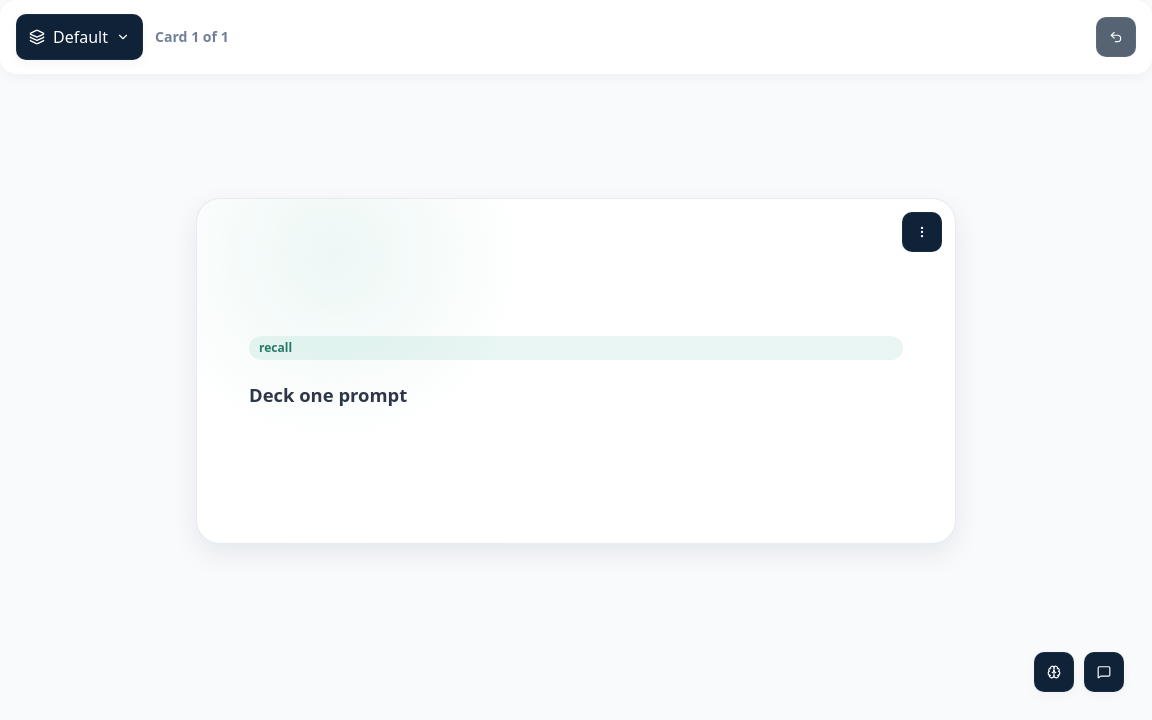
Test case: ReviewPage › ignores a stale scheduled grade response after switching selections
Expected: the text "Deck one prompt" is shown, [249, 382, 407, 407]
Click the element named "flashcard" at (242, 371), box [196, 198, 956, 544]
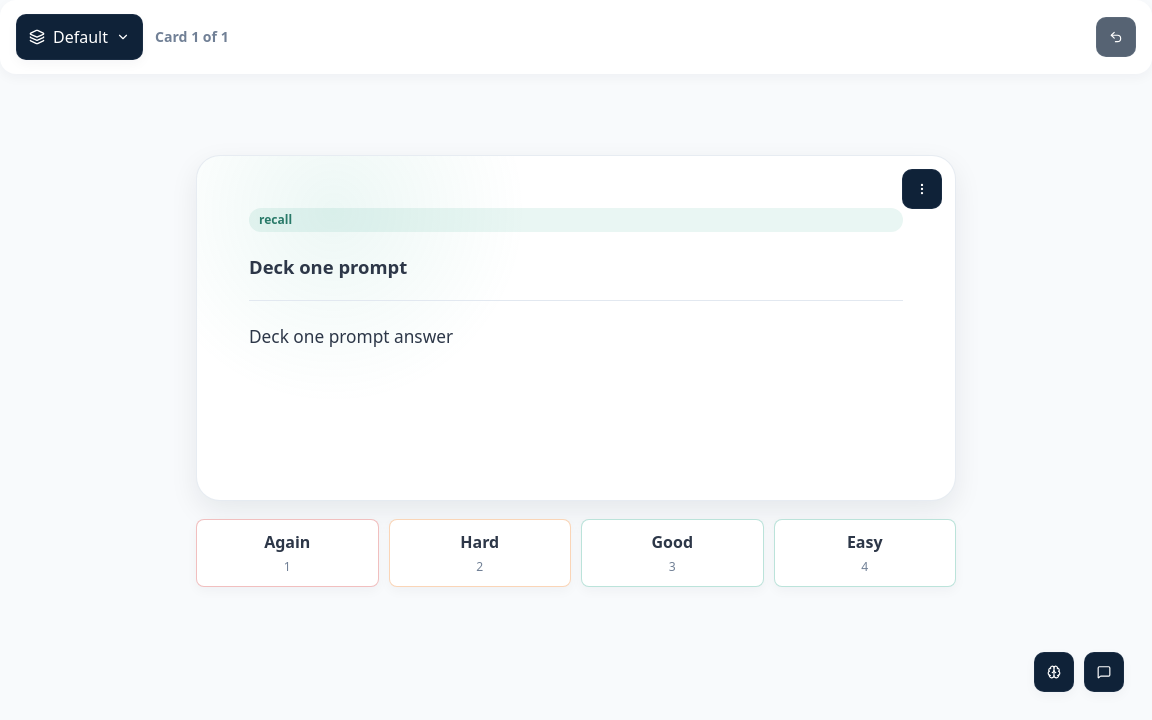
Click the button "Good 3" at (672, 553), box [581, 519, 764, 587]
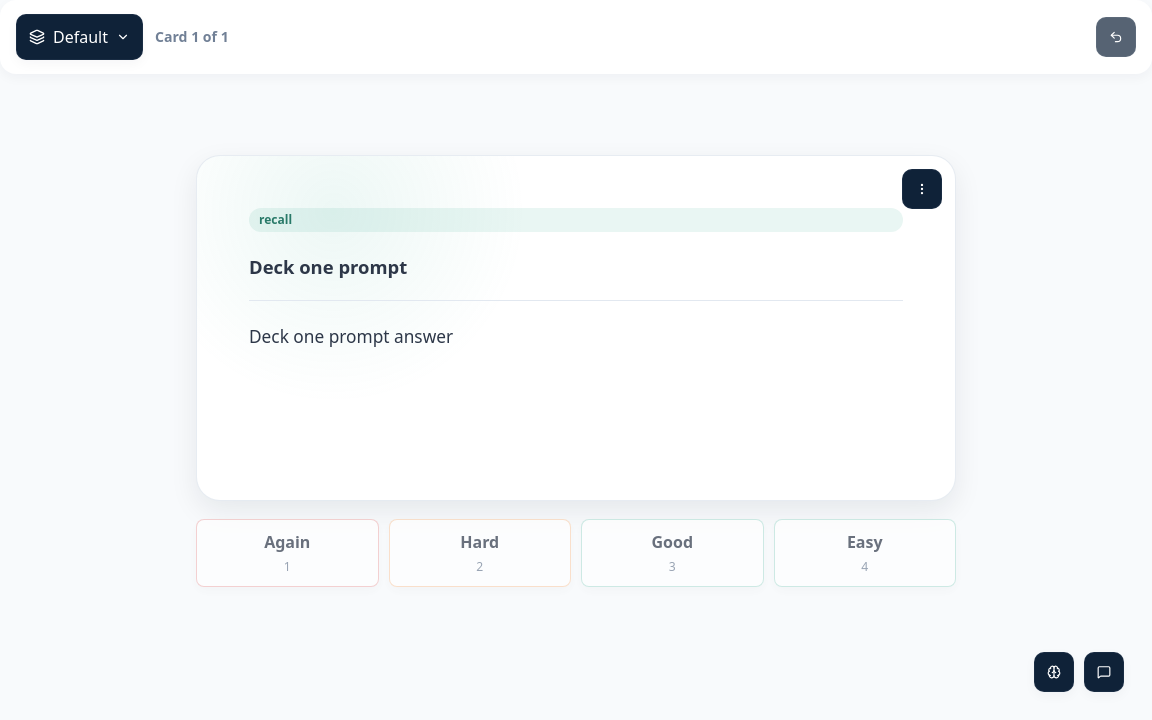
Click the button "Default" at (80, 37), box [16, 14, 143, 60]
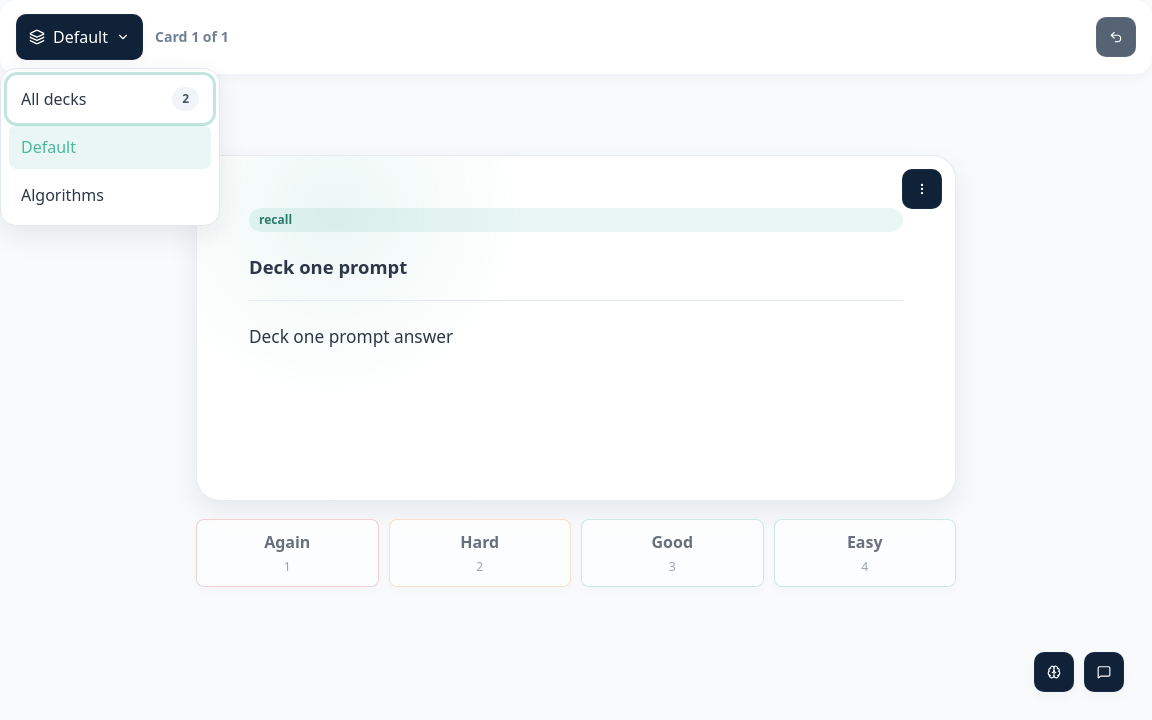
Click the button "All decks 2" at (110, 99), box [9, 77, 211, 121]
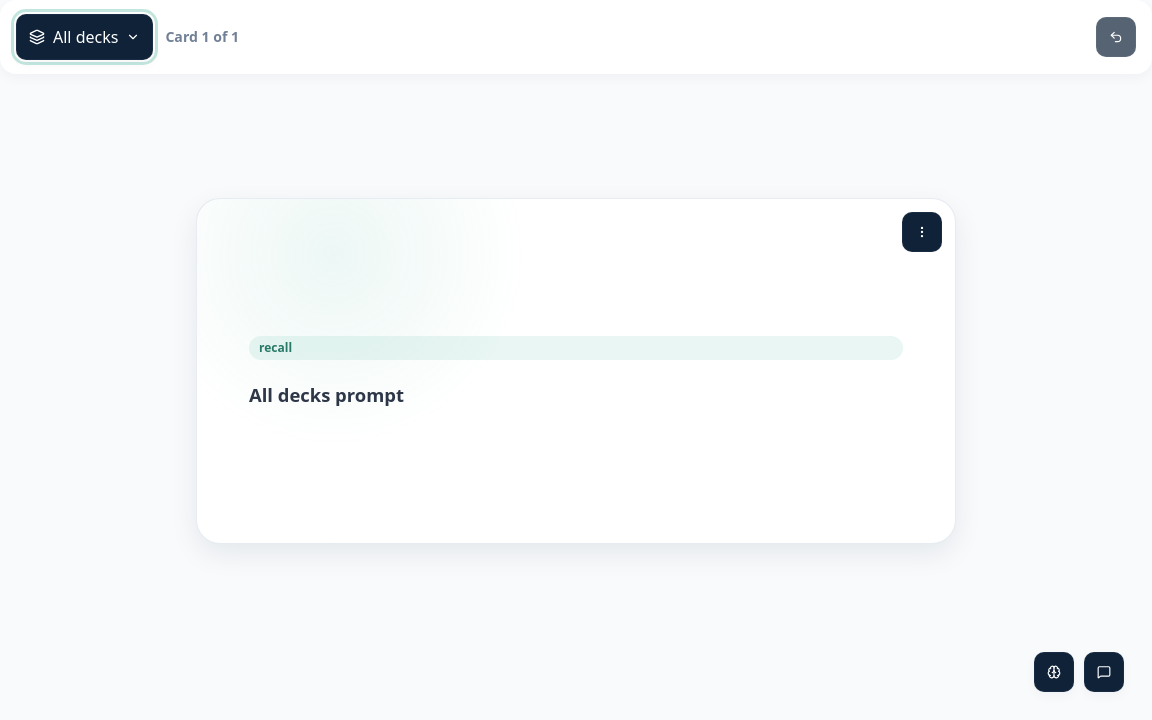
Now the text "All decks prompt" is shown, box [249, 382, 404, 407]
